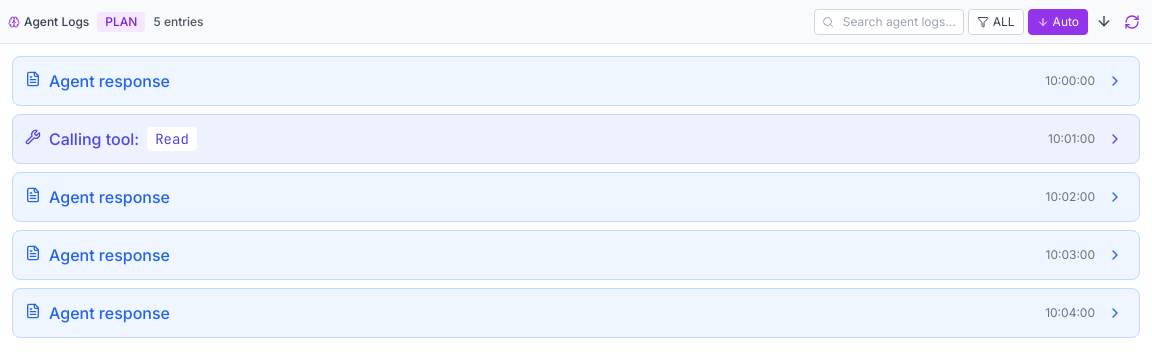
Test: AgentLogsPanel Component › Event Type Filter Menu › should filter by THINKING event type
Check: the text "5 entries" is shown, box [153,14,204,30]
// Open filter menu
Click the button titled "Filter by event type" at (996, 22), box [968,8,1024,34]
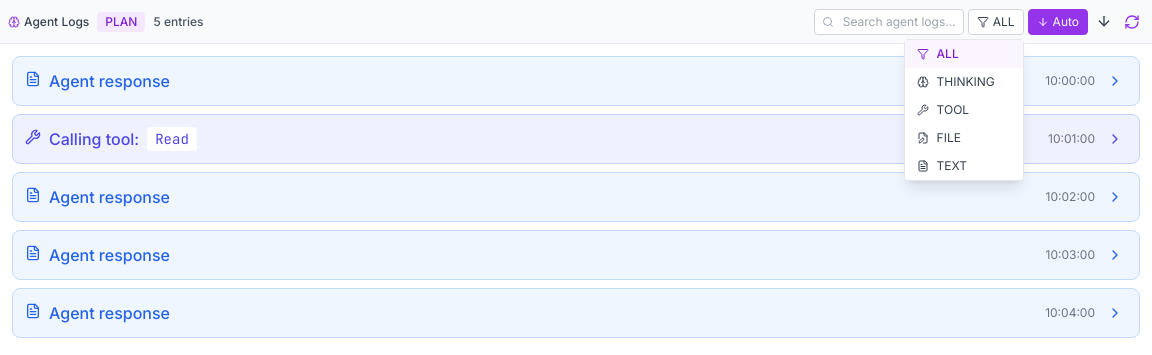
// Select THINKING filter
Click the button "THINKING" at (964, 82), box [905,68,1023,96]
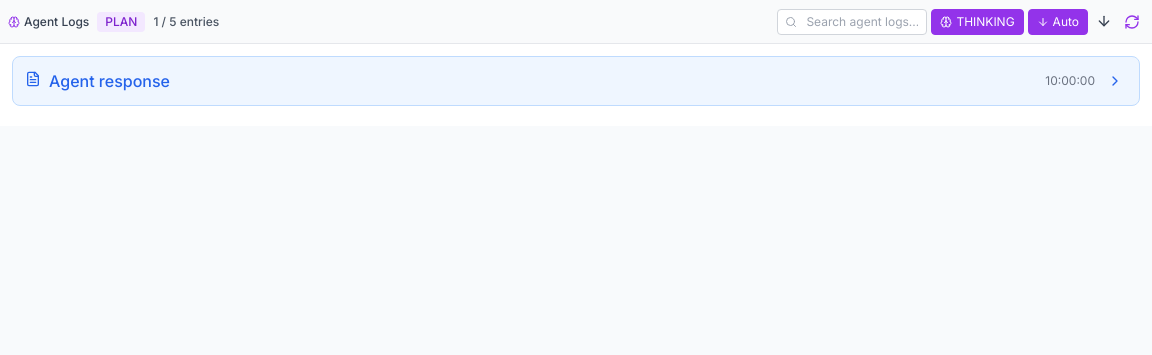
Check: the text "1 / 5 entries" is shown, box [153,14,219,30]
